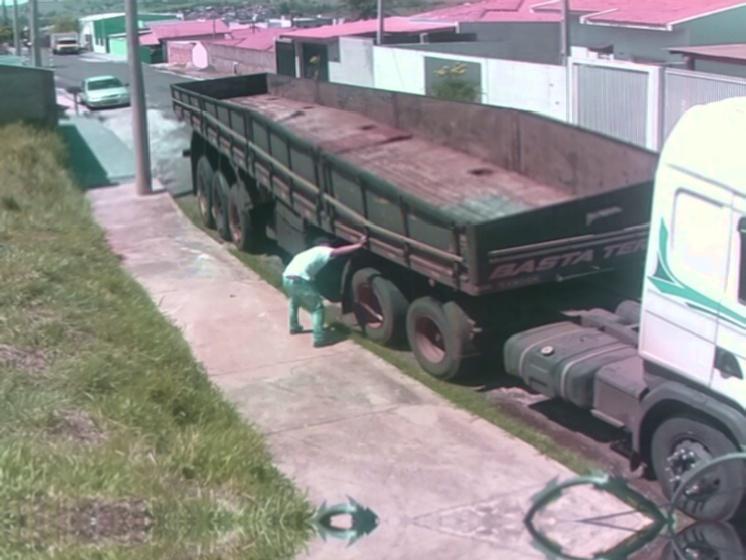person: (280, 234, 372, 349)
